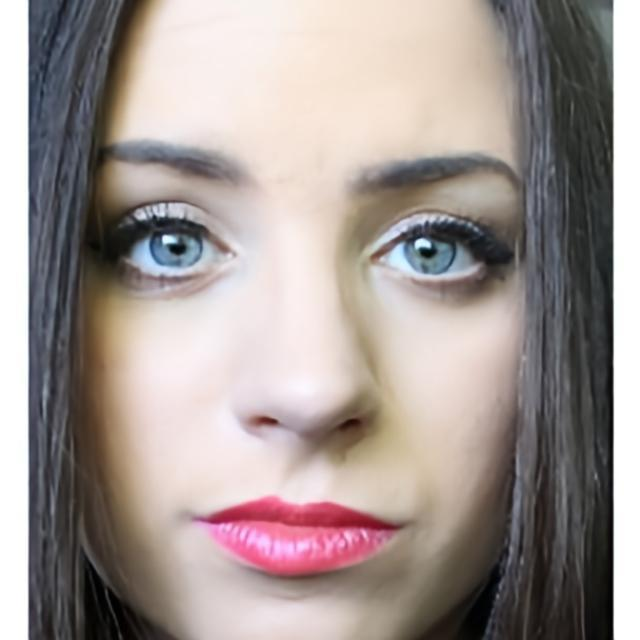neutral: (82, 0, 524, 640)
